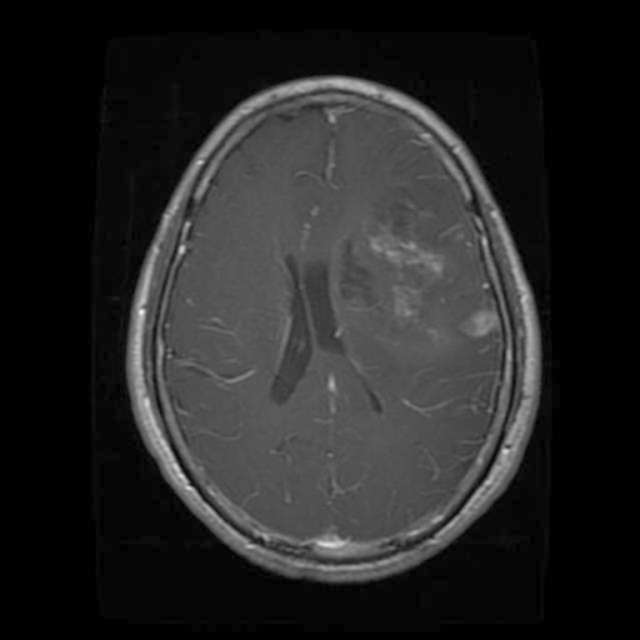pituitary tumor: (375, 231, 449, 320)
